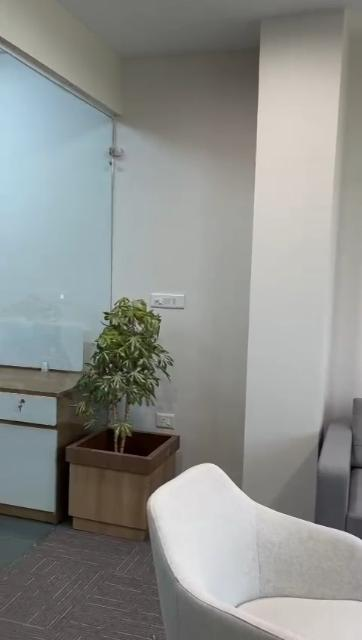floor: (0, 518, 164, 637)
object: (148, 492, 362, 640), (88, 306, 158, 520), (0, 364, 76, 524), (299, 383, 362, 518)
wall: (3, 1, 356, 491)
